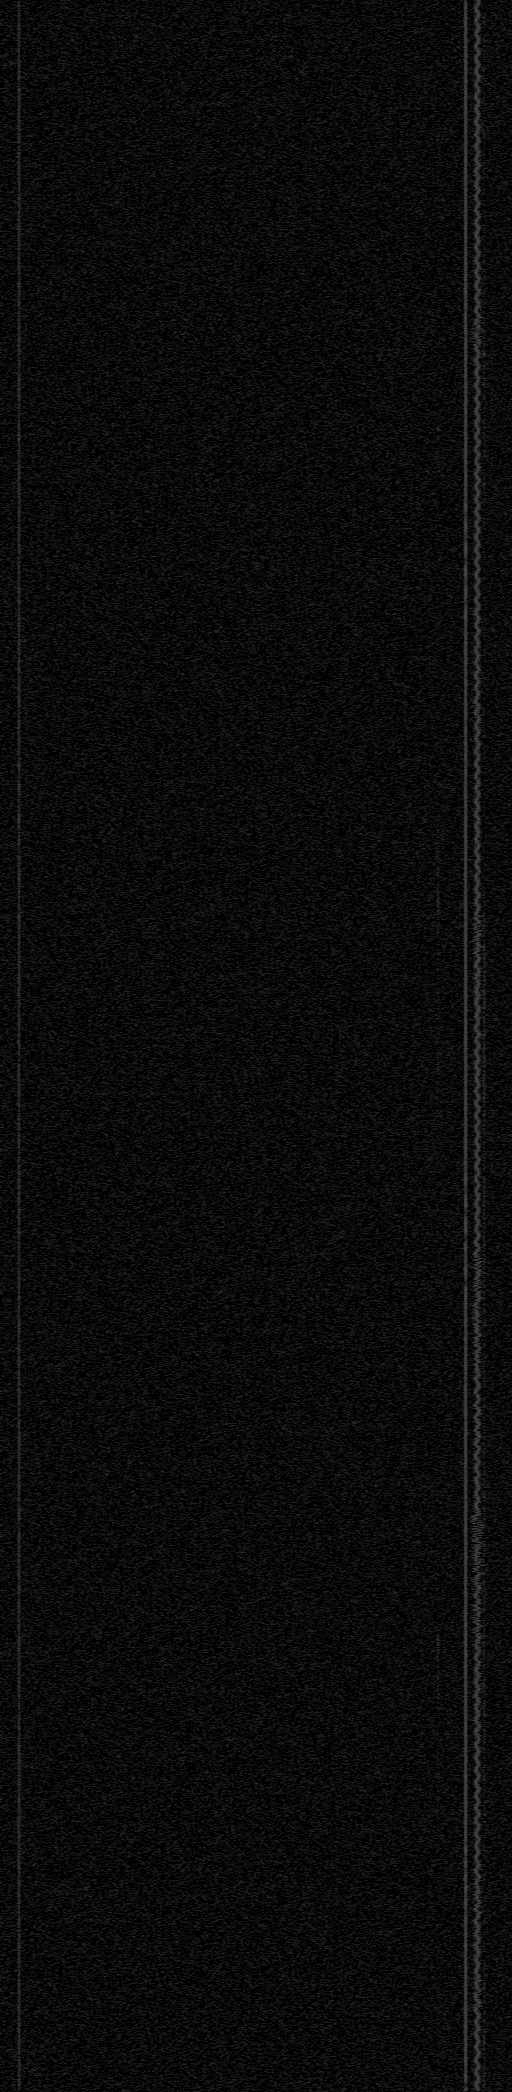wv_am: (463, 0, 469, 2091), (16, 0, 21, 2091)
wv_lsb: (436, 738, 440, 946), (483, 348, 487, 514), (483, 901, 487, 1063), (483, 1608, 487, 1737), (483, 1468, 487, 1588), (483, 1283, 487, 1386), (435, 1622, 440, 1690), (483, 2004, 487, 2091), (483, 1738, 487, 1806), (436, 1726, 440, 1785), (483, 1118, 487, 1163), (483, 1063, 487, 1107), (483, 1424, 487, 1466), (483, 1203, 487, 1243), (483, 1163, 487, 1202), (435, 420, 441, 440), (483, 93, 485, 141), (483, 1904, 487, 1936), (483, 63, 487, 92), (436, 947, 440, 977), (483, 245, 485, 288), (436, 981, 440, 1009), (483, 322, 487, 347), (483, 1977, 487, 2003), (436, 1079, 440, 1103), (436, 1053, 440, 1075), (483, 1247, 487, 1270), (436, 161, 439, 193), (436, 1953, 440, 1975), (436, 1879, 440, 1899), (436, 1185, 440, 1205), (483, 141, 485, 171), (436, 2052, 440, 2071), (483, 33, 485, 61), (483, 13, 487, 32), (436, 1844, 440, 1863), (436, 1147, 440, 1166), (436, 1122, 440, 1141), (436, 1027, 440, 1046), (483, 1396, 485, 1422), (483, 1589, 487, 1606), (483, 220, 485, 245), (483, 1864, 485, 1889), (483, 195, 485, 219), (483, 793, 485, 817), (483, 530, 485, 552), (436, 1810, 440, 1825), (436, 1710, 440, 1725), (436, 2016, 440, 2031), (436, 1920, 440, 1935), (483, 299, 485, 320), (483, 172, 485, 193), (436, 1796, 440, 1809), (436, 1692, 440, 1705), (436, 128, 440, 141), (483, 1806, 485, 1825), (483, 720, 485, 739), (436, 442, 440, 454), (483, 1271, 487, 1283), (483, 564, 485, 582), (483, 771, 485, 789), (483, 672, 485, 690), (483, 600, 485, 616), (436, 1826, 440, 1837), (483, 1937, 485, 1953), (483, 1847, 485, 1863), (483, 886, 485, 901), (483, 700, 485, 715), (436, 462, 440, 471), (483, 515, 485, 528), (436, 1218, 439, 1231), (483, 1829, 485, 1843), (483, 849, 485, 862), (436, 1786, 440, 1794), (436, 1013, 440, 1021), (436, 1985, 439, 1997), (436, 141, 440, 149), (483, 646, 485, 656), (436, 722, 439, 732), (483, 1892, 485, 1903), (436, 1265, 439, 1274), (483, 1967, 485, 1976), (483, 865, 485, 874), (483, 752, 485, 762), (436, 1863, 440, 1868), (436, 1287, 440, 1293), (436, 1999, 439, 2007), (436, 1021, 440, 1026), (436, 456, 440, 462), (436, 1975, 439, 1983), (483, 877, 485, 885), (436, 1911, 439, 1919), (483, 744, 485, 752), (483, 664, 485, 672), (483, 634, 485, 640), (483, 626, 485, 632), (483, 618, 485, 624), (436, 1255, 439, 1262), (436, 1233, 439, 1239), (436, 1944, 439, 1951), (483, 658, 485, 664), (436, 1871, 440, 1875), (483, 1243, 487, 1247), (483, 1113, 487, 1117), (436, 2085, 439, 2091), (436, 1105, 439, 1110), (483, 821, 485, 826), (483, 695, 485, 700), (483, 595, 485, 599), (483, 588, 485, 592), (483, 560, 485, 564), (483, 294, 485, 298), (436, 1706, 440, 1709), (436, 503, 440, 506), (483, 1961, 485, 1965), (483, 1392, 485, 1396), (483, 1388, 485, 1392), (483, 1109, 487, 1111), (483, 833, 485, 837), (483, 827, 485, 831), (483, 716, 485, 720), (483, 642, 485, 644), (483, 290, 485, 292), (436, 1174, 439, 1177), (483, 845, 485, 847)
wv_wbfm: (469, 0, 485, 2091)
